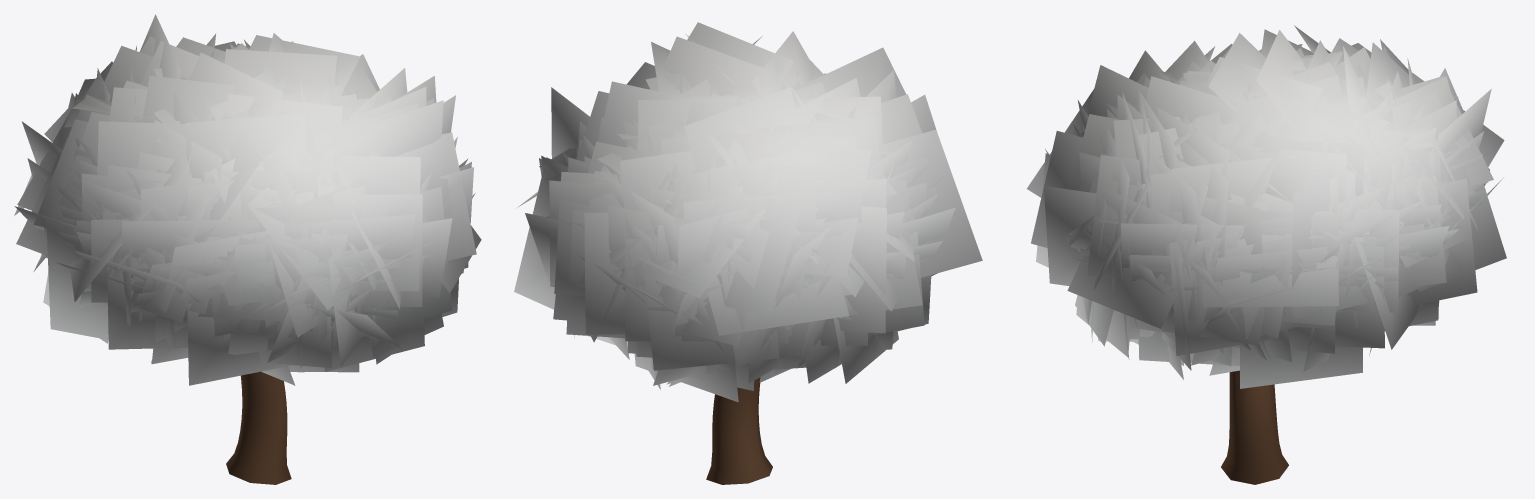
The picture shows the model from 3 angles, left to right: view 1: azimuth 30°, elevation 25°; view 2: azimuth 150°, elevation 25°; view 3: azimuth 270°, elevation 25°; orthographic projection.
Parts seen in each view (by area): view 1: crown, trunk; view 2: crown, trunk; view 3: crown, trunk.
Part boxes in pixels (x1,y1,x2,y2): crown: [14, 14, 481, 385]; trunk: [226, 371, 291, 484]; crown: [514, 22, 982, 402]; trunk: [706, 377, 772, 484]; crown: [1027, 25, 1506, 388]; trunk: [1221, 370, 1288, 484].
Bounding box in the file's own units: 16.96 × 16.72 × 18.39.
